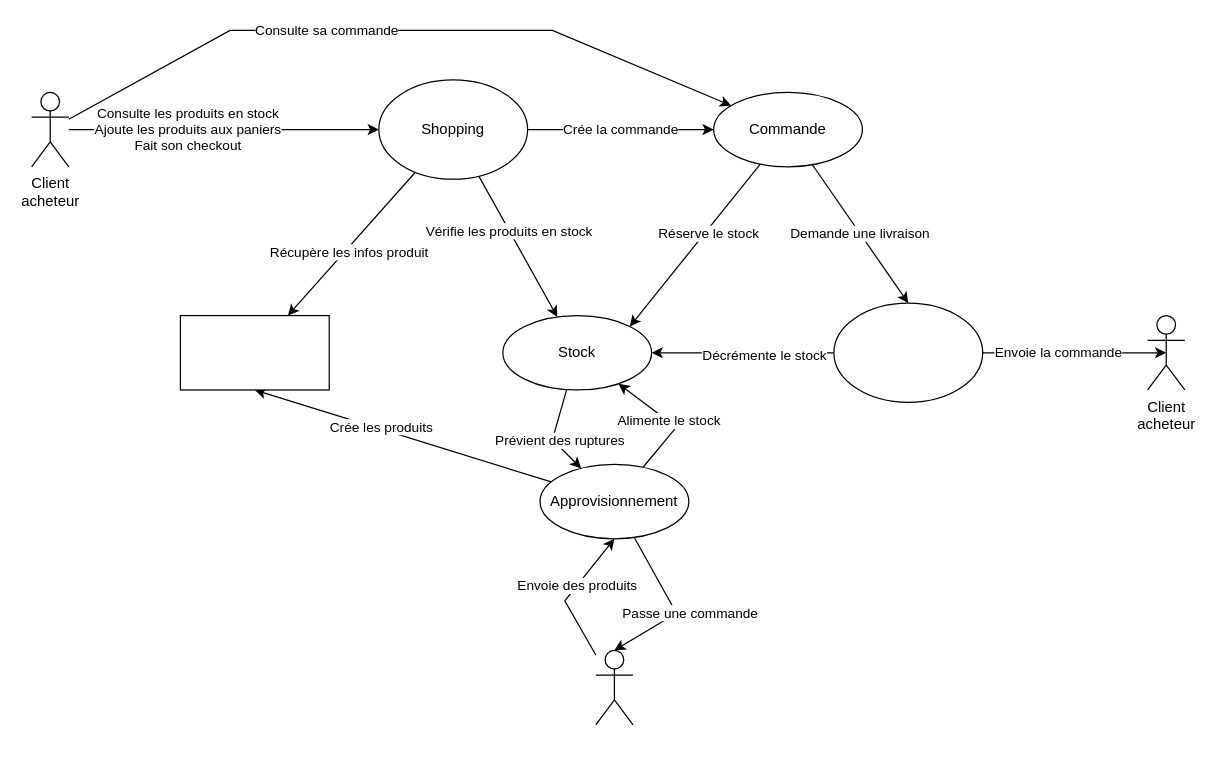
The diagram is 1216 pixels wide and 773 high, and some of its shapes have lost their labels. The shapes that lost their labels are listed below. From the top down, each one's centre as x and y in pixels, then its label:
At point (254, 352): "Catalogue produit".
At point (908, 352): "Livraison".
At point (614, 687): "Système fournisseur".
